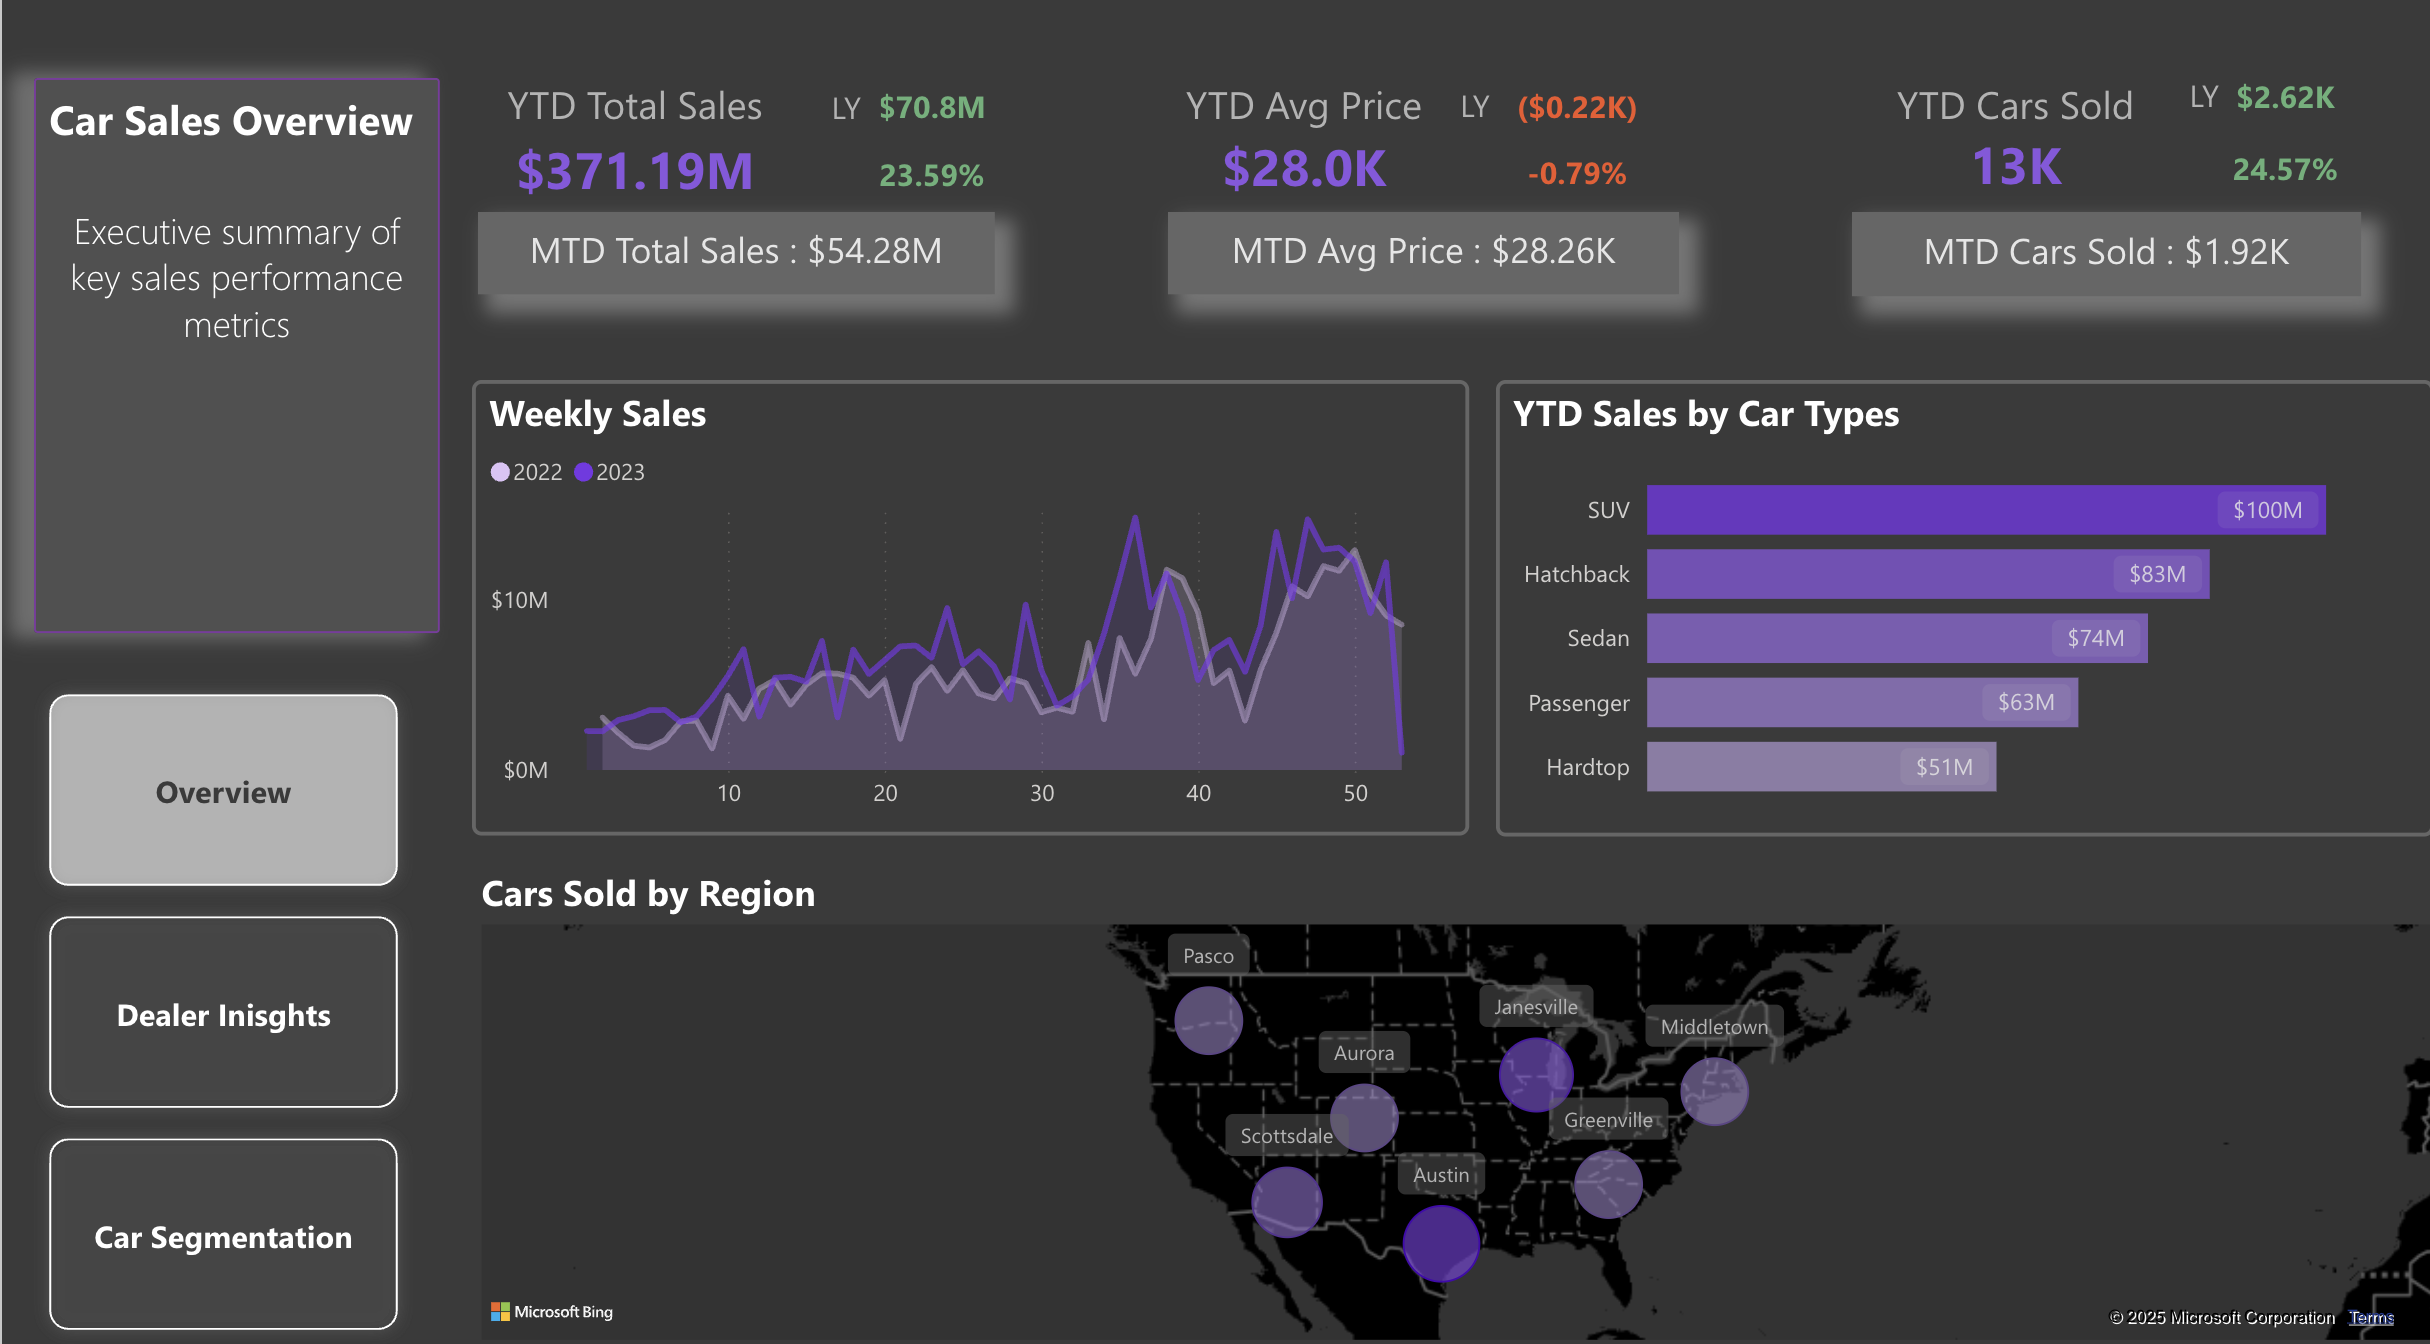

The dashboard page shown, as its layout file describes it:
{"tool":"powerbi","page":{"name":"Overview","canvas":[1280,720],"ordinal":0},"visuals":[{"type":"card","title":"YTD Total Sales","fields":{"Values":["car_data.YTD Total Sales"]},"box":[246.6,41,168.4,70.7],"z":0},{"type":"card","fields":{"Values":["car_data.Sales Difference"]},"box":[432,41,108.6,34.3],"z":1000},{"type":"card","fields":{"Values":["car_data.YoY Sales Growth"]},"box":[432,76.7,108.6,34.3],"z":2000},{"type":"card","fields":{"Values":["car_data.MTD KPI"]},"box":[248.8,111,270,42.9],"z":3000},{"type":"textbox","box":[422.8,39.9,35.8,42],"z":4000},{"type":"card","title":"YTD Avg Price","fields":{"Values":["car_data.YTD Avg Price"]},"box":[608.4,41,144.2,67.9],"z":5000},{"type":"card","fields":{"Values":["car_data.Avg Price Difference"]},"box":[769.5,40.3,108,34],"z":6000},{"type":"textbox","box":[752.5,38.7,34.6,38.3],"z":7000},{"type":"card","fields":{"Values":["car_data.YoY Avg Price"]},"box":[769.5,74.3,108,36],"z":8000},{"type":"card","fields":{"Values":["car_data.MTD Avg Price KPI"]},"box":[608.8,111,267.1,42.9],"z":9000},{"type":"card","title":"YTD Cars Sold","fields":{"Values":["car_data.YTD Cars Sold"]},"box":[965.6,41,173,65.1],"z":10000},{"type":"card","fields":{"Values":["car_data.Cars Sold Difference"]},"box":[1138.8,35.6,108,34],"z":11000},{"type":"textbox","box":[1137.6,33.8,29.6,39.5],"z":12000},{"type":"card","fields":{"Values":["car_data.YoY Cars Sold"]},"box":[1138.4,71.6,108,36],"z":13000},{"type":"card","fields":{"Values":["car_data.MTD Cars Sold KPI"]},"box":[966.8,110.7,265.9,43.9],"z":14000},{"type":"areaChart","title":"Weekly Sales ","fields":{"Category":["Calendar Table.Week"],"Y":["Sum(car_data.Price ($))"],"Series":["Calendar Table.Year"]},"box":[245.6,198.8,521.1,237.8],"z":15000},{"type":"map","title":"Cars Sold by Region","fields":{"Category":["car_data.Dealer_Region"],"Size":["CountNonNull(car_data.Car_id)"]},"box":[246,453.2,1034.2,251.6],"z":16000},{"type":"clusteredBarChart","title":"YTD Sales by Car Types","fields":{"Category":["car_data.Body Style"],"Y":["car_data.YTD Total Sales"]},"box":[780.2,198.8,490.1,238.3],"z":17000},{"type":"pageNavigator","box":[16.9,344.1,198.3,359.3],"z":18000},{"type":"textbox","box":[16.9,40.7,211.9,289.8],"z":19000}]}

Visuals, with their boxes in screenshot pixels (x1, y1, x2, y2), scaled from the page's 1280x720 canvas onto the 2430x1344 screenshot:
"YTD Total Sales" card: x1=468, y1=77, x2=788, y2=209
card - car_data.Sales Difference: x1=820, y1=77, x2=1026, y2=141
card - car_data.YoY Sales Growth: x1=820, y1=143, x2=1026, y2=207
card - car_data.MTD KPI: x1=472, y1=207, x2=985, y2=287
textbox: x1=803, y1=74, x2=871, y2=153
"YTD Avg Price" card: x1=1155, y1=77, x2=1429, y2=203
card - car_data.Avg Price Difference: x1=1461, y1=75, x2=1666, y2=139
textbox: x1=1429, y1=72, x2=1494, y2=144
card - car_data.YoY Avg Price: x1=1461, y1=139, x2=1666, y2=206
card - car_data.MTD Avg Price KPI: x1=1156, y1=207, x2=1663, y2=287
"YTD Cars Sold" card: x1=1833, y1=77, x2=2162, y2=198
card - car_data.Cars Sold Difference: x1=2162, y1=66, x2=2367, y2=130
textbox: x1=2160, y1=63, x2=2216, y2=137
card - car_data.YoY Cars Sold: x1=2161, y1=134, x2=2366, y2=201
card - car_data.MTD Cars Sold KPI: x1=1835, y1=207, x2=2340, y2=289
"Weekly Sales " areaChart: x1=466, y1=371, x2=1456, y2=815
"Cars Sold by Region" map: x1=467, y1=846, x2=2429, y2=1316
"YTD Sales by Car Types" clusteredBarChart: x1=1481, y1=371, x2=2412, y2=816
pageNavigator: x1=32, y1=642, x2=409, y2=1313
textbox: x1=32, y1=76, x2=434, y2=617
